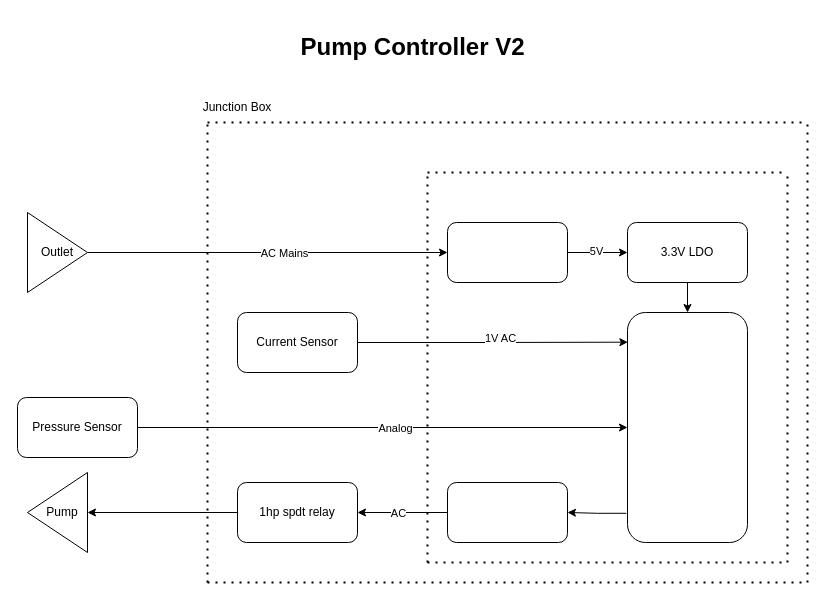
This 827x602 diagram has some shape labels left out. Here are the shapes that lost their labels. From the top down, the centre of each, then its label:
the point at 507,252: AC/DC Power Supply
the point at 687,427: ESP32 MCU
the point at 507,512: Transistor
